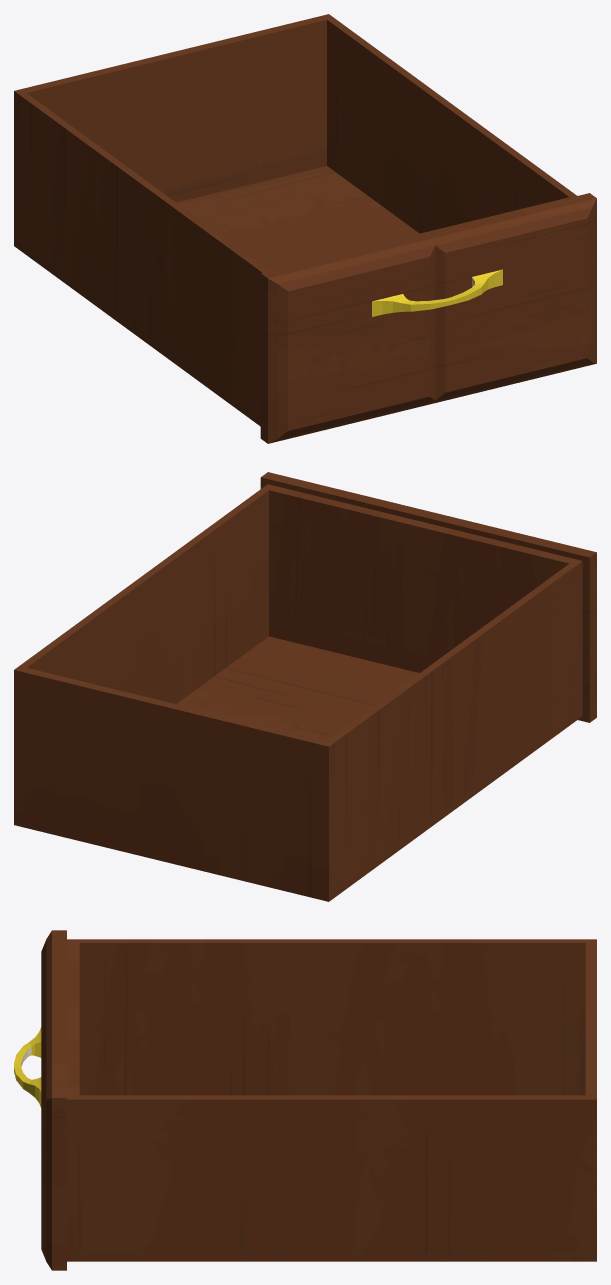
Rendered from Drawer_Piece.fbx.
The picture shows the model from 3 angles, top to bottom: view 1: azimuth 30°, elevation 25°; view 2: azimuth 150°, elevation 25°; view 3: azimuth 270°, elevation 25°; orthographic projection. The views are drawn at different scales.
Visible parts, largest first — view 1: Drawer_A_Piece.001; view 2: Drawer_A_Piece.001; view 3: Drawer_A_Piece.001.
Part boxes in pixels (bbox=[...]): Drawer_A_Piece.001: bbox=[14, 14, 596, 443]; Drawer_A_Piece.001: bbox=[14, 472, 596, 901]; Drawer_A_Piece.001: bbox=[14, 930, 596, 1270].
Size of the model in its own units: 1130 by 543 by 1661.
Materials: 2 (1 with a texture image).
